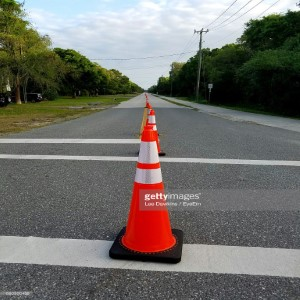traffic cone: (108, 125, 183, 264), (136, 110, 166, 158)
